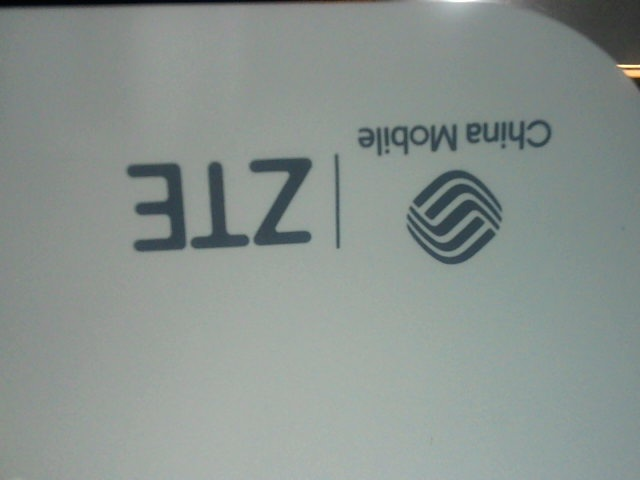AL_ZTEChinaMobile: (113, 106, 558, 265)
